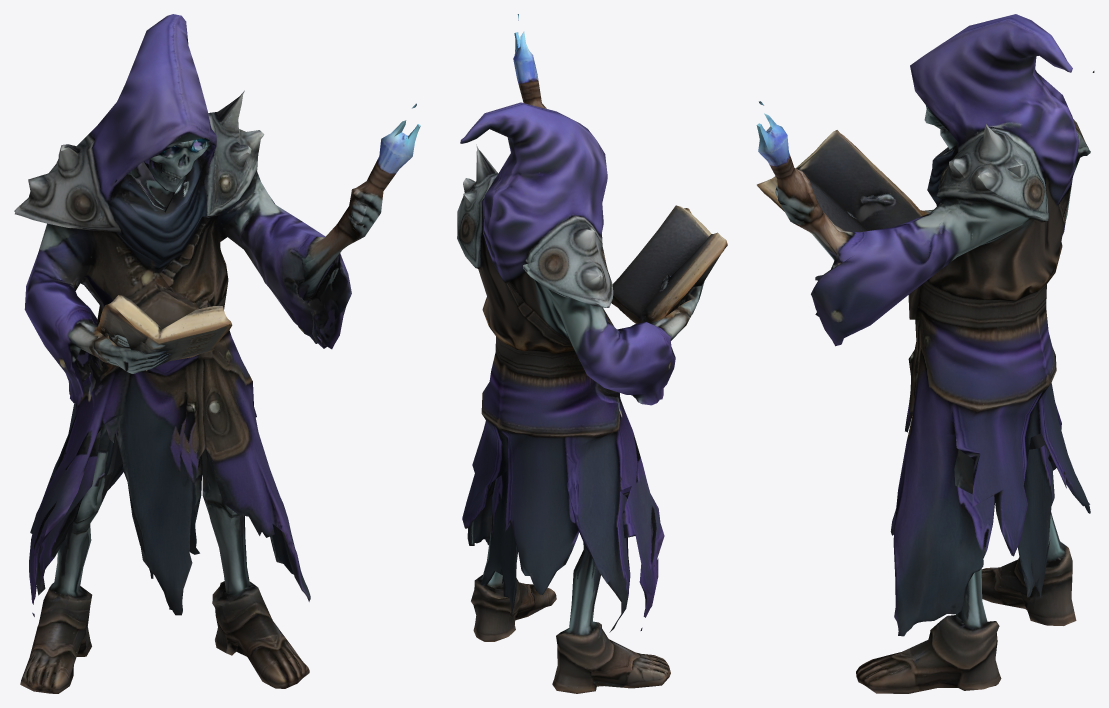
File: Mage - LOW.glb
The picture shows the model from 3 angles, left to right: view 1: azimuth 30°, elevation 25°; view 2: azimuth 150°, elevation 25°; view 3: azimuth 270°, elevation 25°; orthographic projection. The views are drawn at different scales.
Parts seen in each view (by area): view 1: Mesh0; view 2: Mesh0; view 3: Mesh0.
Part boxes in pixels (<box>): Mesh0: <box>14,14,420,693</box>; Mesh0: <box>457,14,727,693</box>; Mesh0: <box>756,14,1094,693</box>.
Bounding box in the file's own units: 0.9563 × 2 × 0.9576.
1 material, 1 textured.
